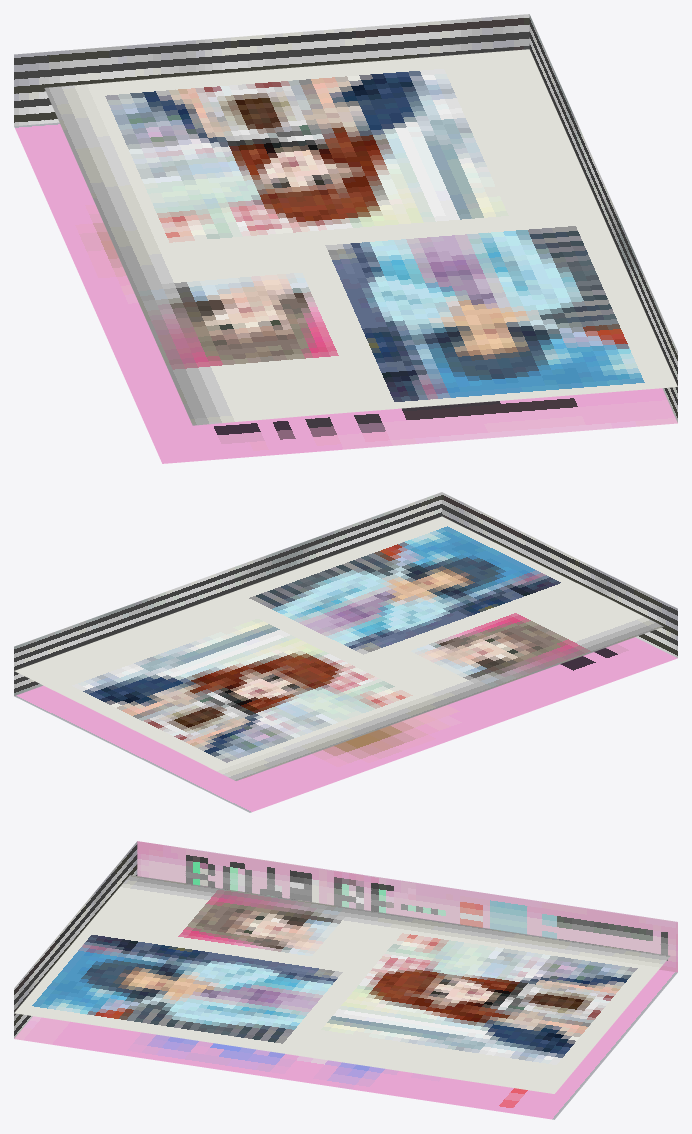
The model's file is ps2_save-icons_typingrenaihakushoboysbe.glb.
3 renders of one model, top to bottom at view 1: azimuth 30°, elevation 25°; view 2: azimuth 150°, elevation 25°; view 3: azimuth 270°, elevation 25°, orthographic. The views are drawn at different scales.
Visible parts, largest first — view 1: icon00.ico; view 2: icon00.ico; view 3: icon00.ico.
Boxes of the visible parts, left/top/right/bottom form: icon00.ico: left=14, top=14, right=677, bottom=463; icon00.ico: left=14, top=492, right=677, bottom=812; icon00.ico: left=14, top=841, right=677, bottom=1119.
Size of the model in its own units: 3.03 by 0.3127 by 3.72.
1 material, 1 textured.
